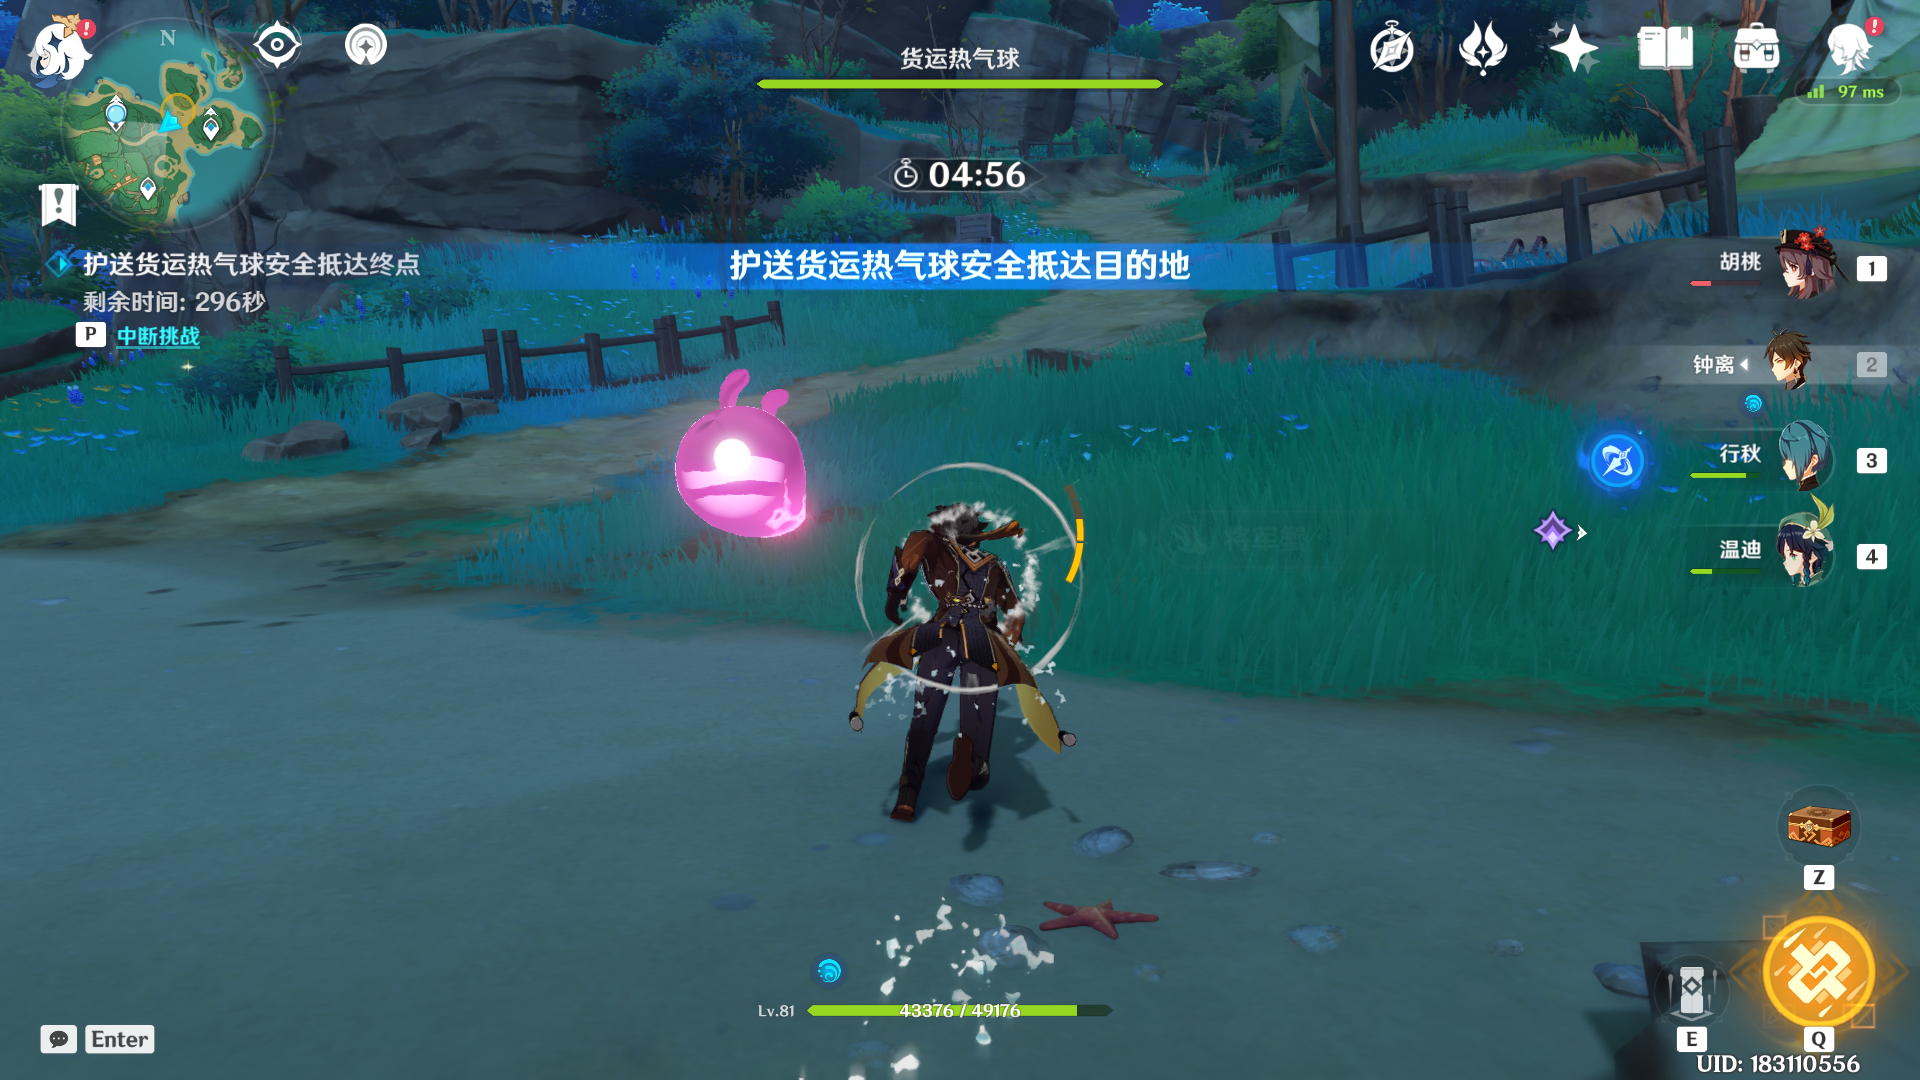character: (795, 458, 1091, 847)
